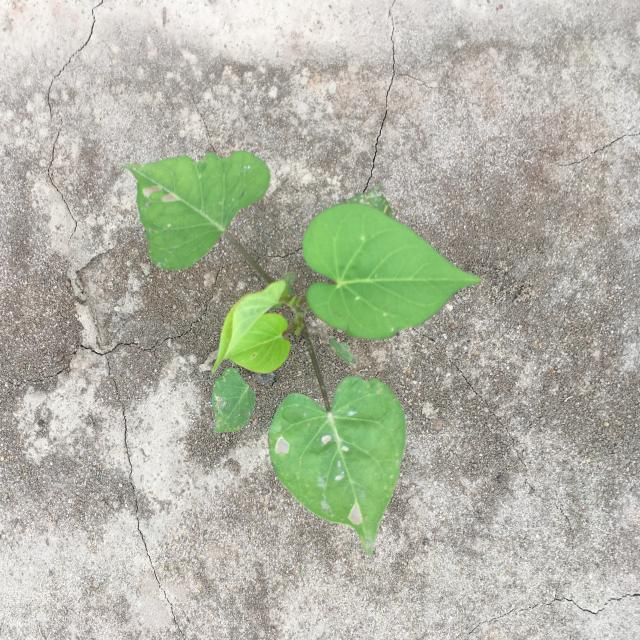MorningGlory: (120, 151, 482, 556)
